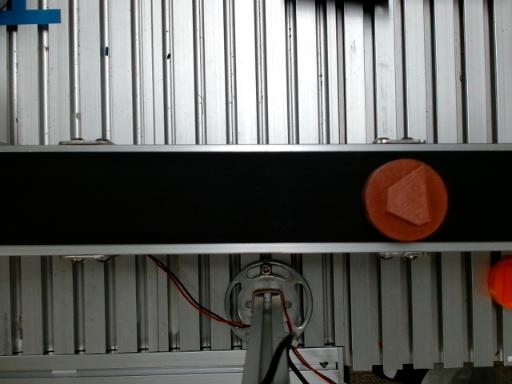Brown_Waper: (363, 159, 447, 241)
Not_Square: (388, 164, 430, 226)
